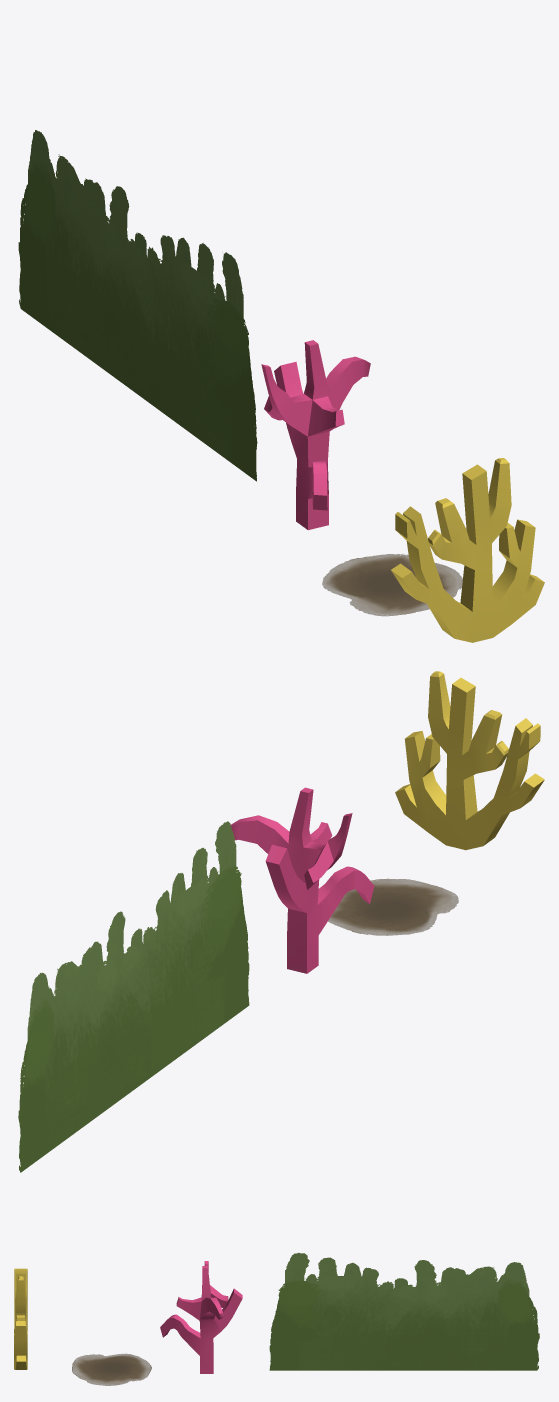
The model's file is SeagrassNew.fbx.
The picture shows the model from 3 angles, top to bottom: view 1: azimuth 30°, elevation 25°; view 2: azimuth 150°, elevation 25°; view 3: azimuth 270°, elevation 25°; orthographic projection. The views are drawn at different scales.
Visible parts, largest first — view 1: Plane.001, Cube.001, Cube, Plane; view 2: Plane.001, Cube.001, Cube, Plane; view 3: Plane.001, Cube, Plane, Cube.001.
Boxes of the visible parts, x1,y1,x2,y2 form: Plane.001: (18,130,257,481); Cube.001: (391,458,544,642); Cube: (261,340,370,530); Plane: (322,553,462,616); Plane.001: (18,821,249,1172); Cube.001: (395,671,544,850); Cube: (231,787,374,973); Plane: (328,878,458,935); Plane.001: (269,1252,539,1370); Cube: (160,1261,242,1373); Plane: (72,1353,151,1385); Cube.001: (14,1268,27,1369).
Bounding box in the file's own units: 1013 × 1876 × 5483.
